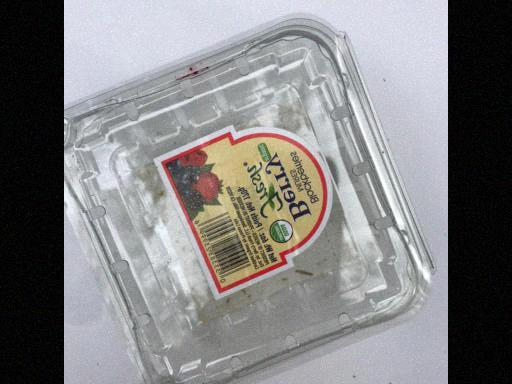plastic: (68, 14, 433, 383)
